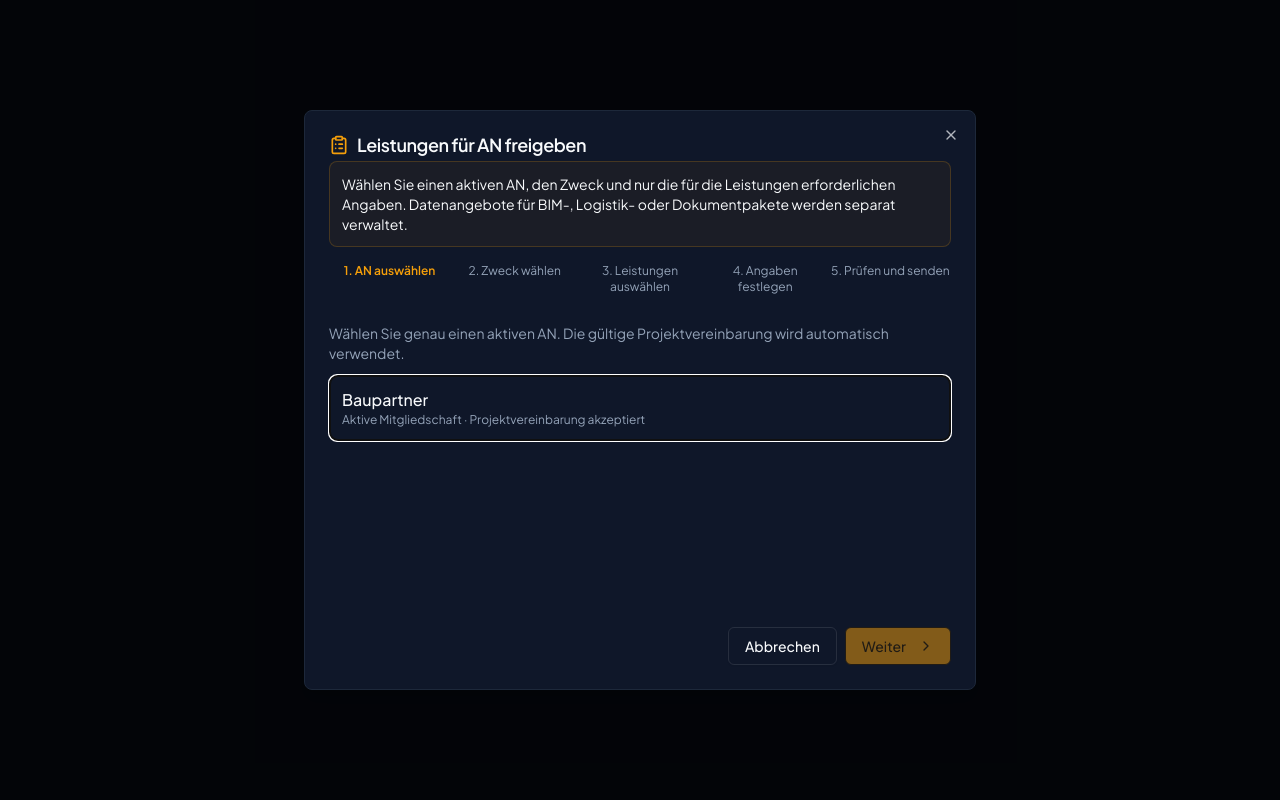
Test case: DataPublicationWizard › derives every approval term from the selected concrete parent policy
The width and height of the screenshot is (1280, 800).
Click the button "Baupartner".
click(385, 400)  # box 329,375 -> 951,441
(page scrolled)
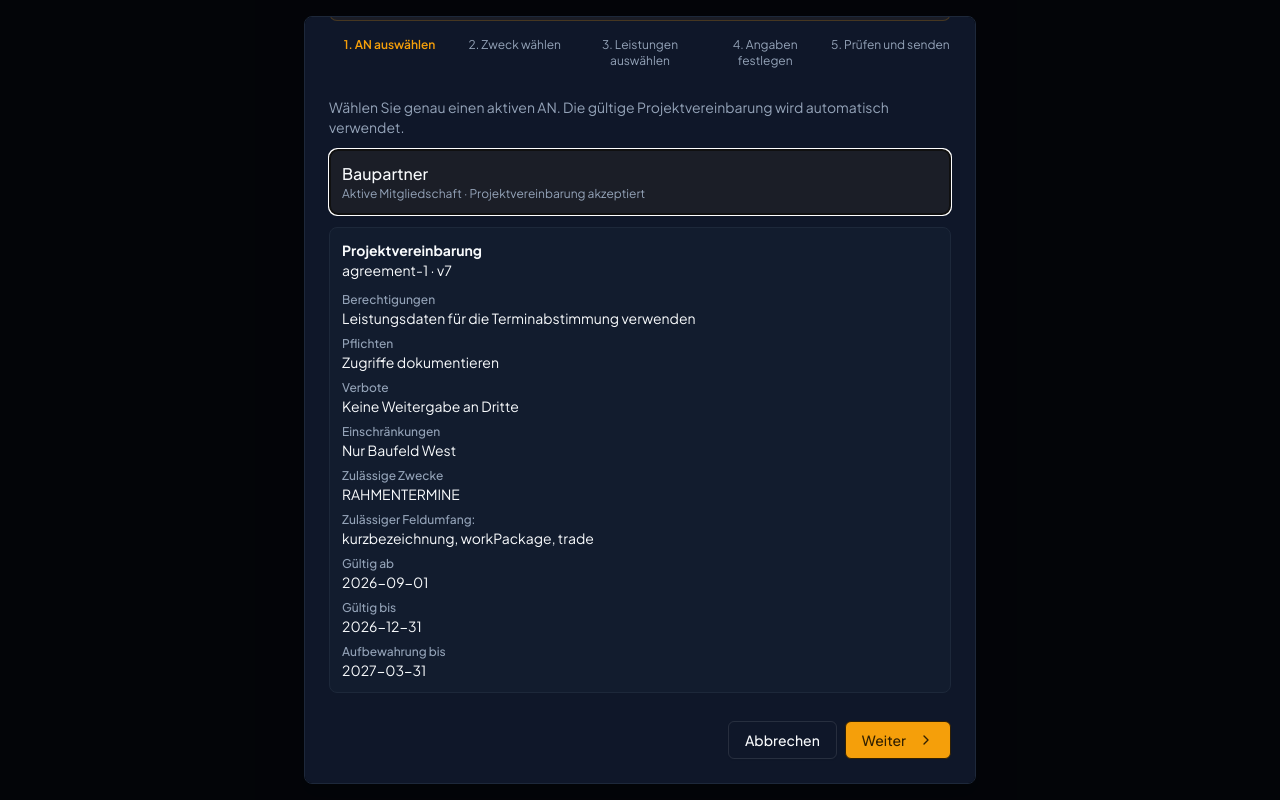
Expected: the element with test id "parent-agreement" shows "Leistungsdaten für die Terminabstimmung verwenden", 342,309 -> 696,327
Expected: the element with test id "parent-agreement" shows "Zugriffe dokumentieren", 342,353 -> 499,371
Expected: the element with test id "parent-agreement" shows "Keine Weitergabe an Dritte", 342,397 -> 519,415
